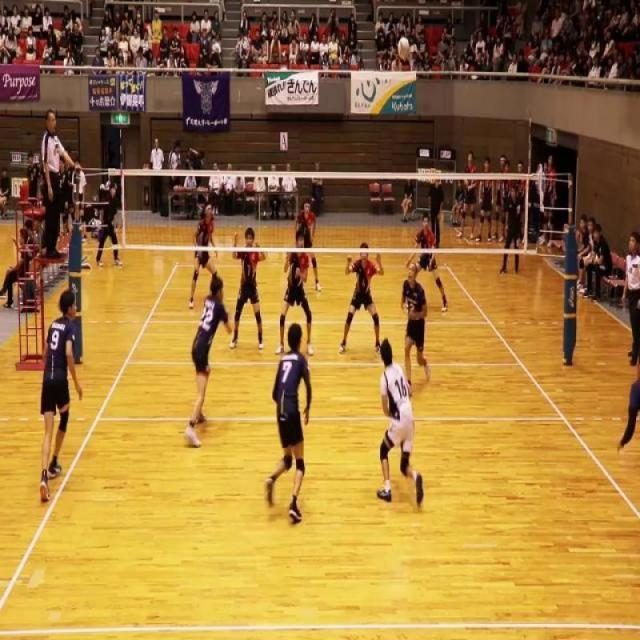volleyball: (398, 36, 410, 59)
